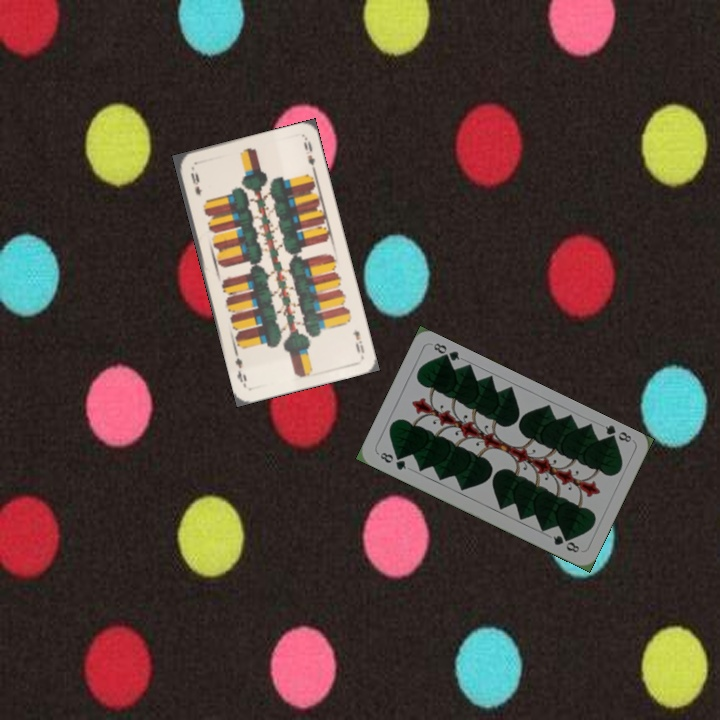E9: (348, 325, 367, 356), (187, 168, 204, 198)
G8: (376, 448, 409, 473), (601, 421, 634, 446)
